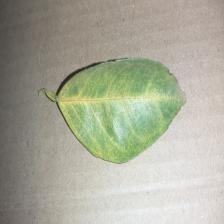greening: (33, 54, 188, 166)
